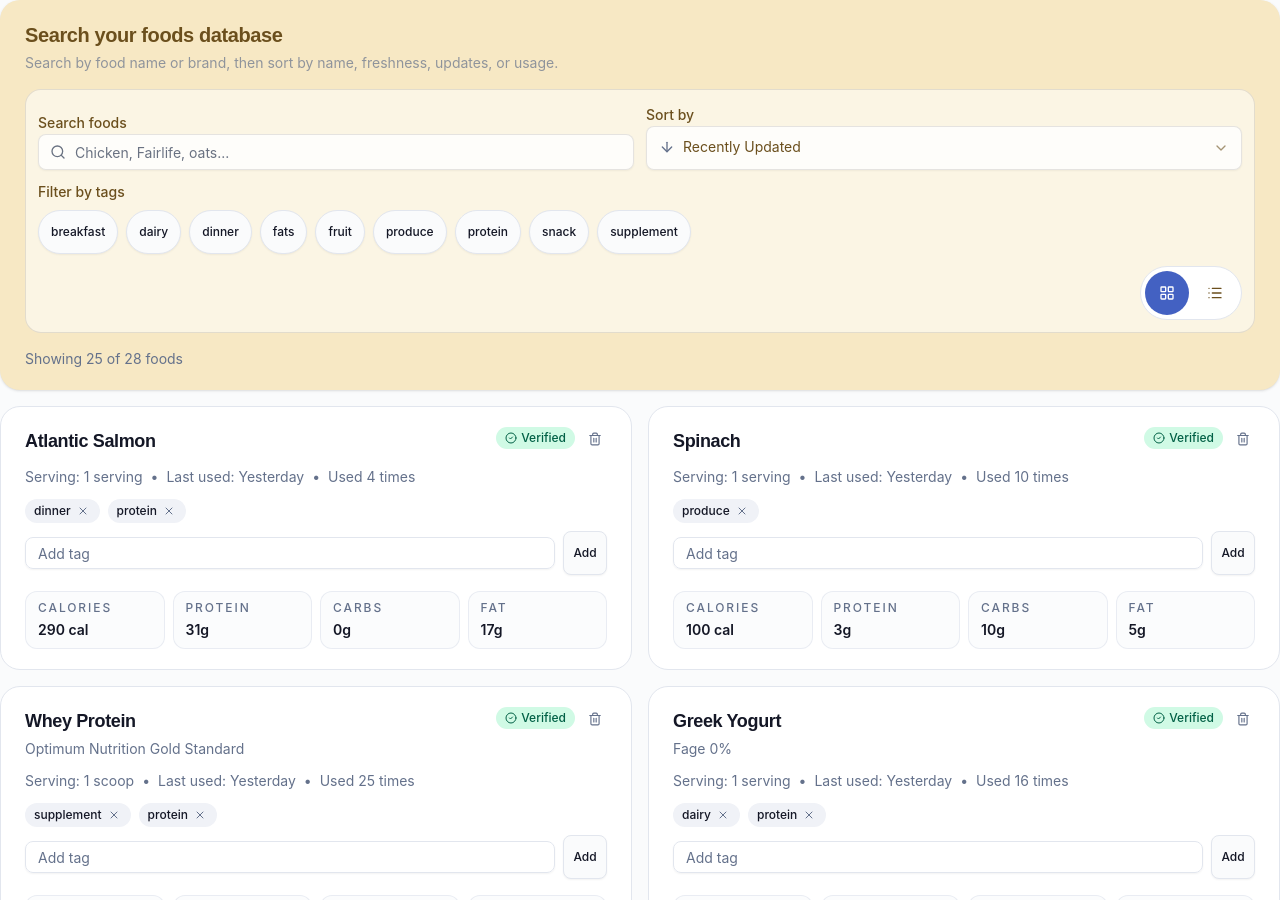
Test case: FoodList › paginates in table mode
Expected: the heading "Spinach" is shown, [673,427,740,455]
Click the button named "Table view": click(1215, 293) [1193,271,1237,315]
(page scrolled)
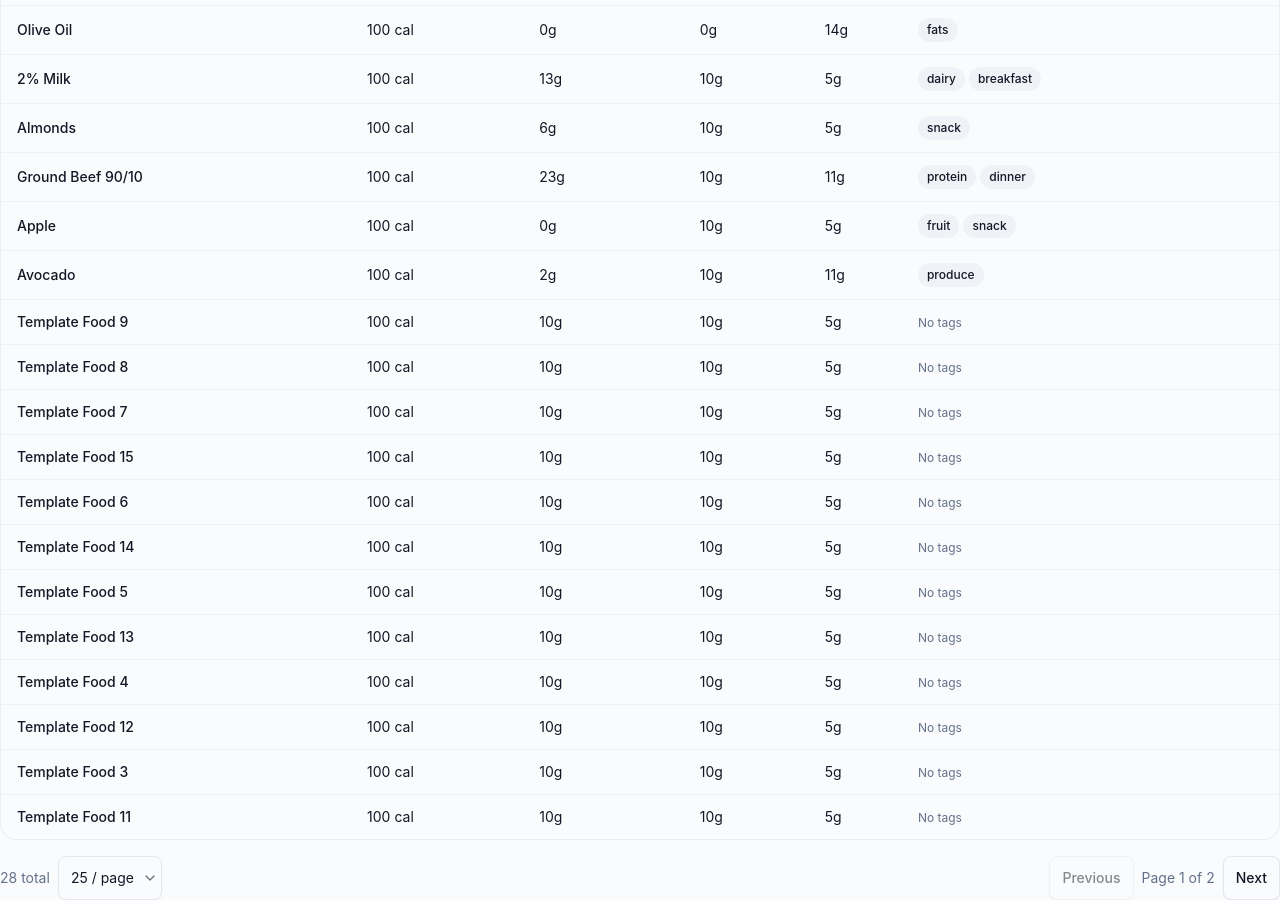
Expected: the text "Page 1 of 2" is shown, [1142,868,1215,888]
Click the button "Next": click(1251, 878) [1223,856,1279,899]
(page scrolled)
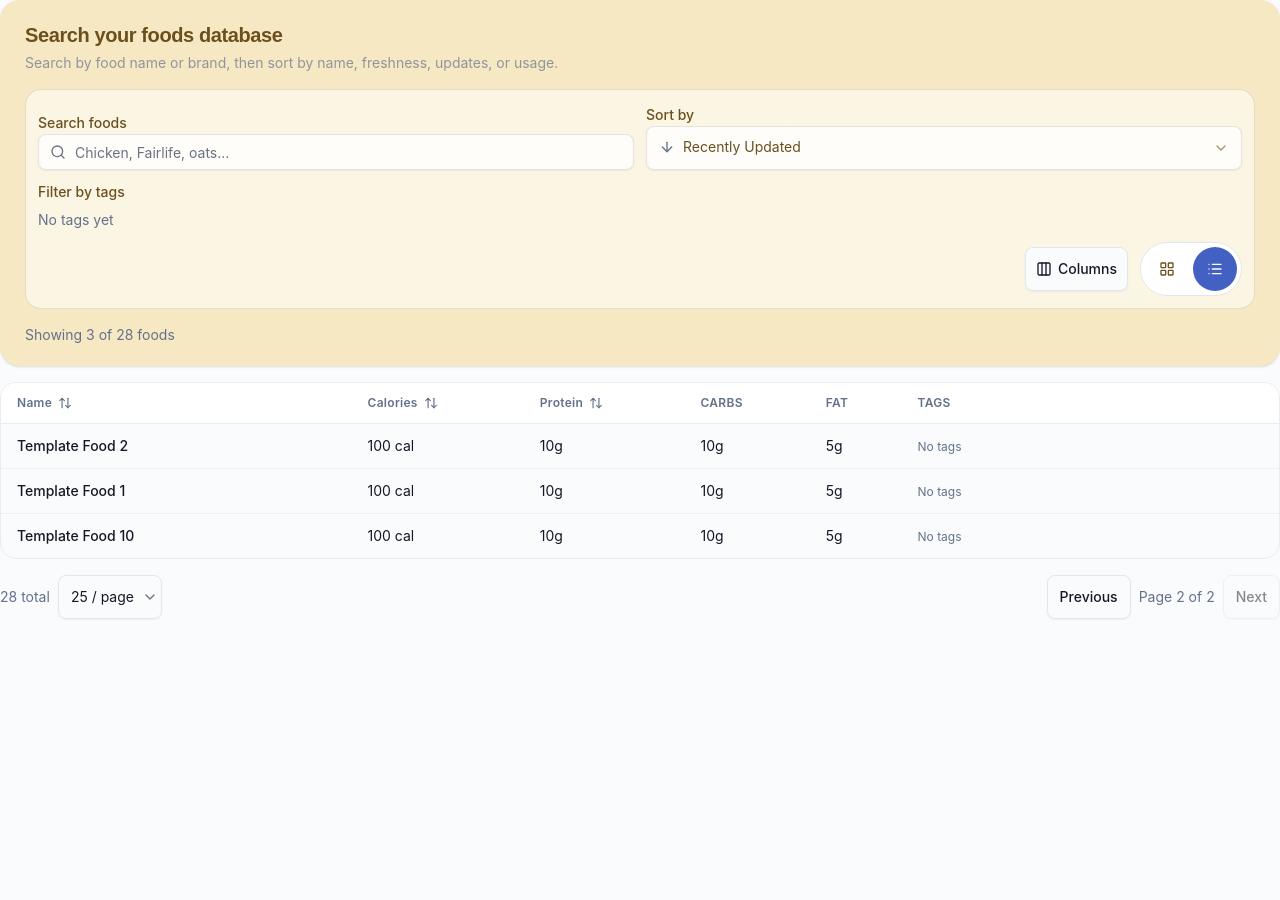
Expected: the table named "Foods table view" is shown, [1,383,1279,558]
Expected: the text "Page 2 of 2" is shown, [1139,587,1215,607]
